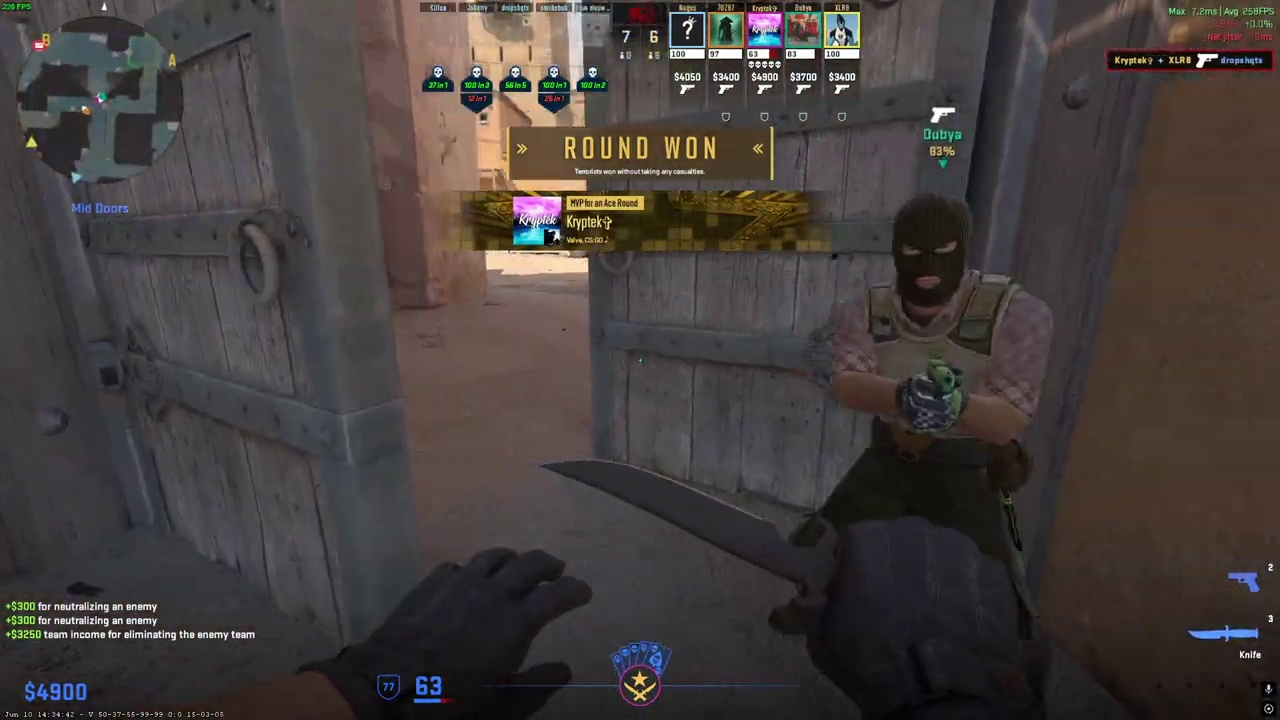Terrorist: (811, 188, 1057, 561)
